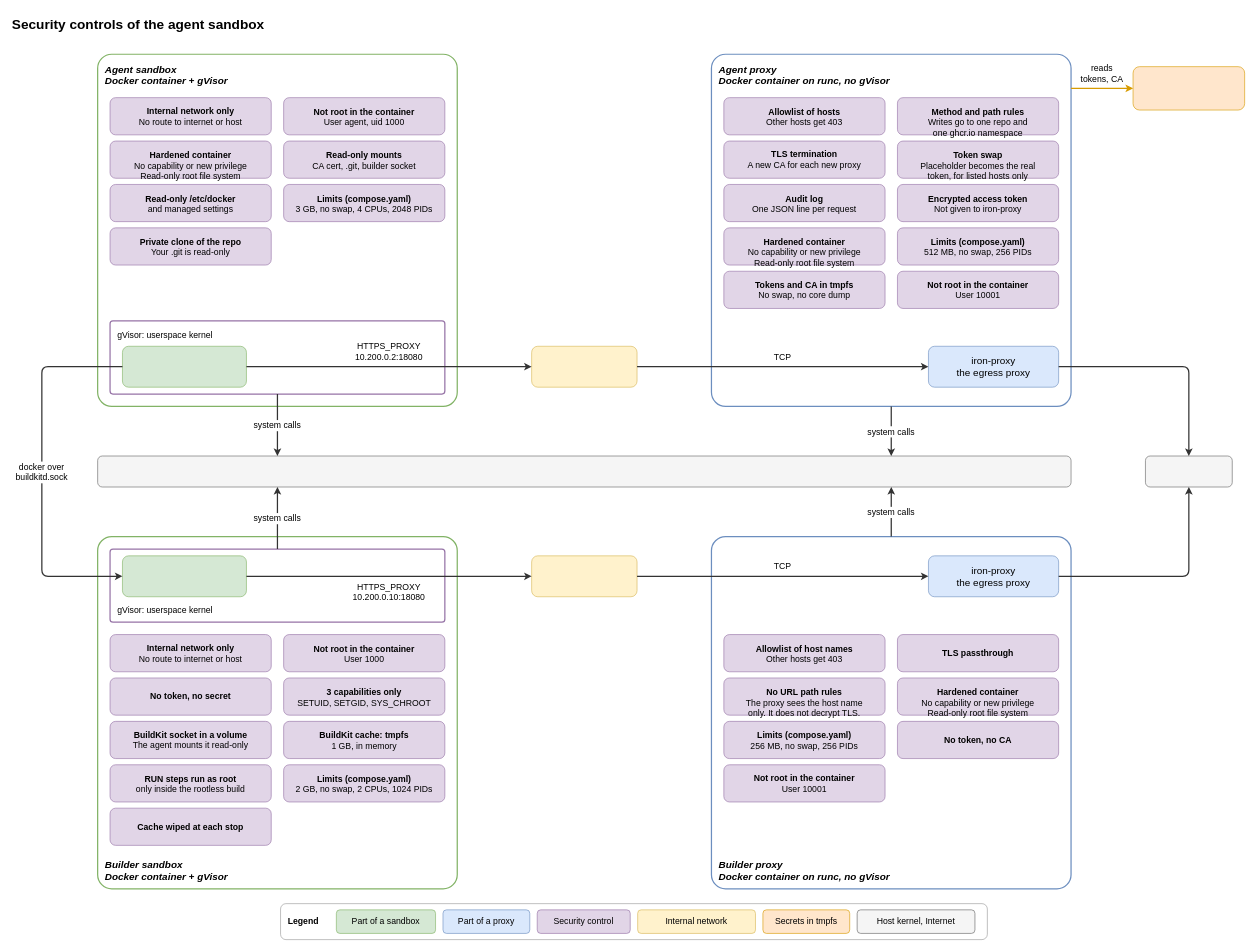
Some shapes in this 1256 by 950 pixel diagram are drawn without their labels. The shapes that lost their labels are listed below. From the top down, each one's centre as x and y in pixels, then its label:
the point at 1188,88: $XDG_RUNTIME_DIR/ sandbox-secrets tmpfs, from init.sh
the point at 184,366: Agent tools placeholders only
the point at 584,366: Network sandbox internal the only way out
the point at 584,471: Host kernel
the point at 1188,471: Internet
the point at 184,576: BuildKit runs the builds
the point at 584,576: Network build internal the only way out
